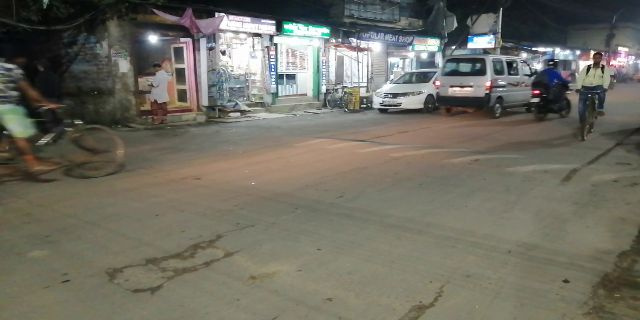Car: (372, 63, 435, 115)
Cycle: (1, 53, 128, 182), (574, 49, 609, 141)
Van: (437, 53, 534, 118)
